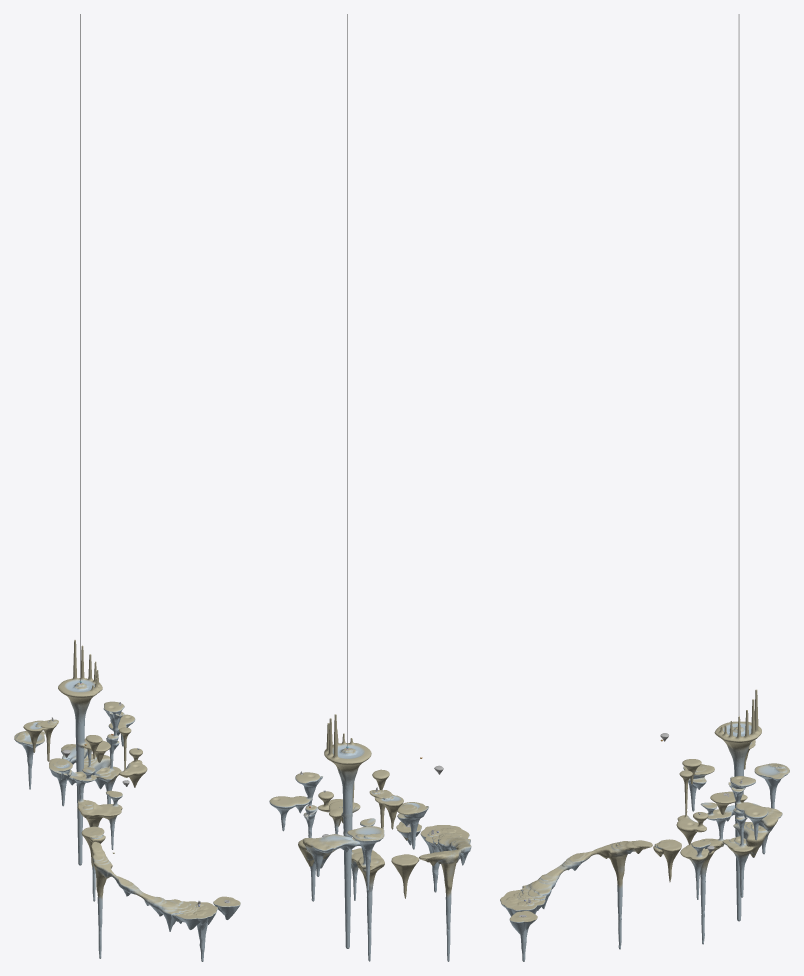
The model's file is BstBaked.glb.
3 renders of one model, left to right at view 1: azimuth 30°, elevation 25°; view 2: azimuth 150°, elevation 25°; view 3: azimuth 270°, elevation 25°, orthographic. The views are drawn at different scales.
Visible parts, largest first — view 1: BstBaked_terrain, BstBaked_LightShaft_02; view 2: BstBaked_terrain, BstBaked_LightShaft_02; view 3: BstBaked_terrain, BstBaked_LightShaft_02.
Part boxes in pixels (x1,y1,x2,y2): BstBaked_terrain: (14,640,240,961); BstBaked_LightShaft_02: (80,14,80,683); BstBaked_terrain: (269,714,471,961); BstBaked_LightShaft_02: (347,14,347,748); BstBaked_terrain: (500,689,789,961); BstBaked_LightShaft_02: (738,14,739,715).
Bounding box in the file's own units: 58.3 × 437 × 120.
